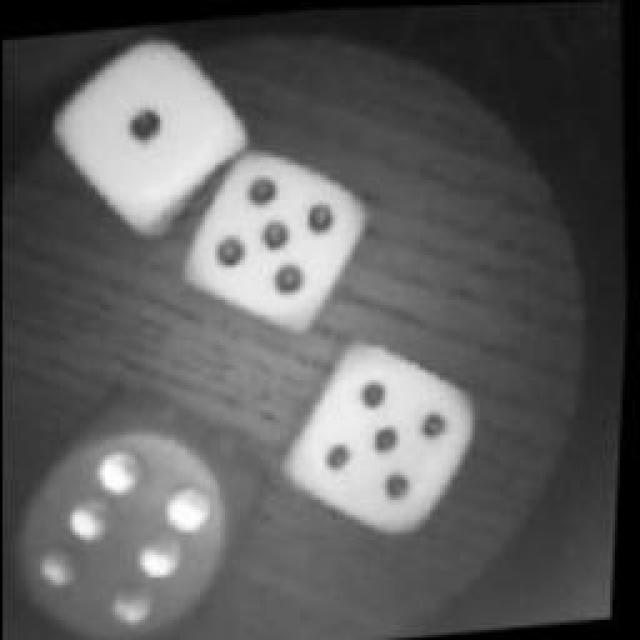dice_1: (40, 21, 260, 244)
dice_5: (266, 324, 496, 554), (170, 129, 382, 341)
dice_6: (0, 377, 292, 640)
